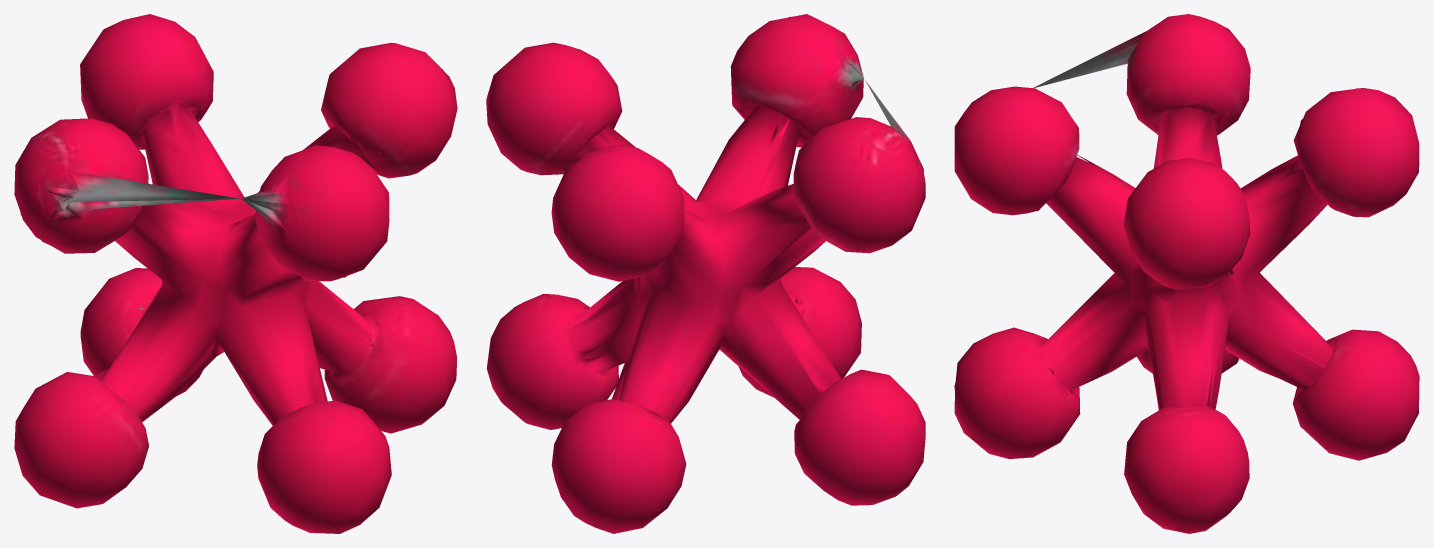
Rendered from spikes.glb.
3 views of the same model, side by side, from view 1: azimuth 30°, elevation 25°; view 2: azimuth 150°, elevation 25°; view 3: azimuth 270°, elevation 25° (orthographic). The views are drawn at different scales.
Parts seen in each view (by area): view 1: Mesh0; view 2: Mesh0; view 3: Mesh0.
Part boxes in pixels (box(x1,y1,x2,y2)): Mesh0: box(14, 14, 457, 533); Mesh0: box(486, 14, 925, 533); Mesh0: box(954, 14, 1419, 533).
Bounding box in the file's own units: 1 × 0.8659 × 1.
1 material, 1 textured.
